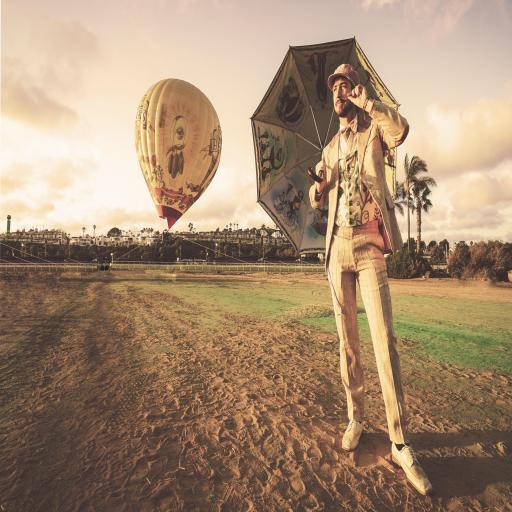hot air ballon: (133, 70, 224, 233)
